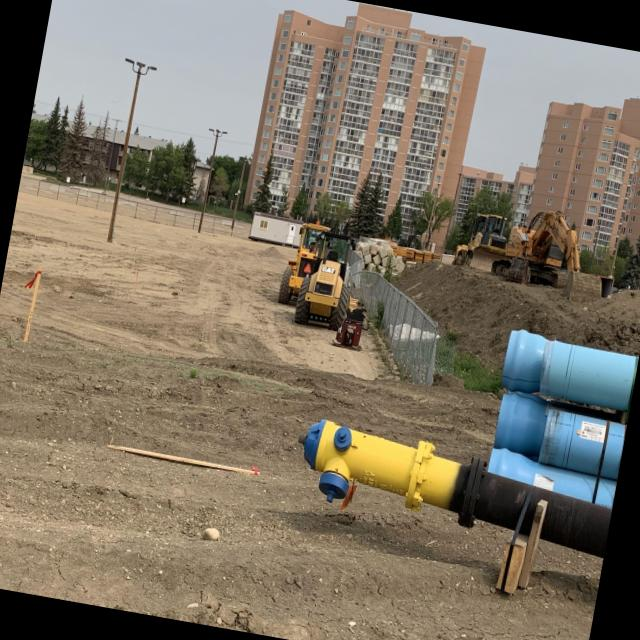Excavator: (502, 192, 618, 310)
Loader: (274, 216, 332, 314)
Roller: (293, 225, 373, 335)
